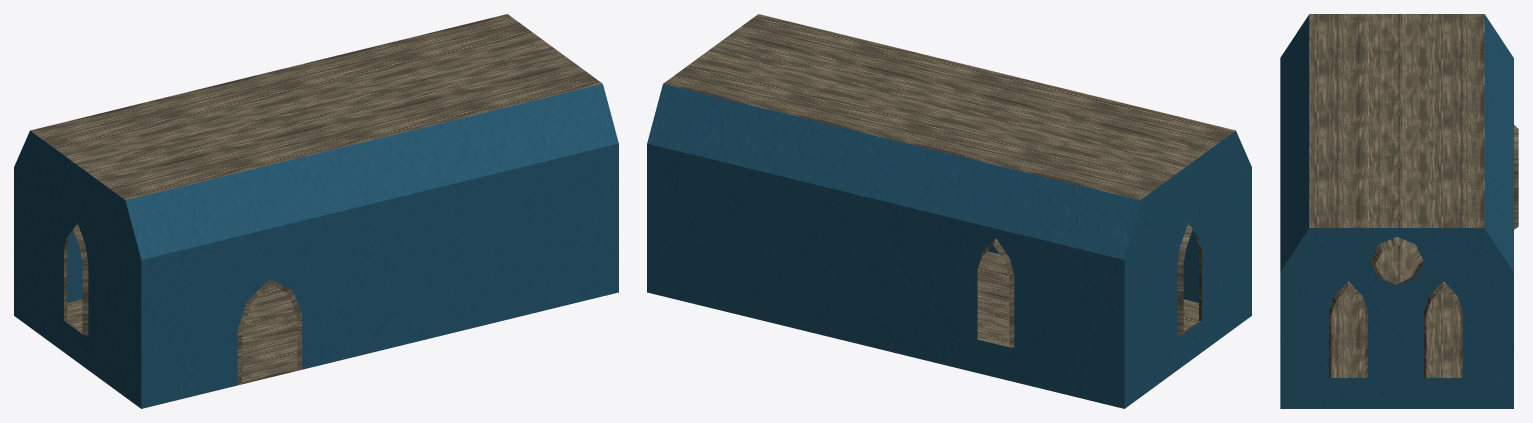
File: LMA_chapel_int_low.dae
3 views of the same model, side by side, from view 1: azimuth 30°, elevation 25°; view 2: azimuth 150°, elevation 25°; view 3: azimuth 270°, elevation 25° (orthographic). The views are drawn at different scales.
Parts seen in each view (by area): view 1: chapel_Module_Common_LMA_chapel_int_low; view 2: chapel_Module_Common_LMA_chapel_int_low; view 3: chapel_Module_Common_LMA_chapel_int_low.
Boxes of the visible parts, x1,y1,x2,y2 form: chapel_Module_Common_LMA_chapel_int_low: [14, 14, 618, 408]; chapel_Module_Common_LMA_chapel_int_low: [647, 14, 1251, 408]; chapel_Module_Common_LMA_chapel_int_low: [1280, 14, 1518, 408].
Bounding box in the file's own units: 21.3 × 9.8 × 8.2.
